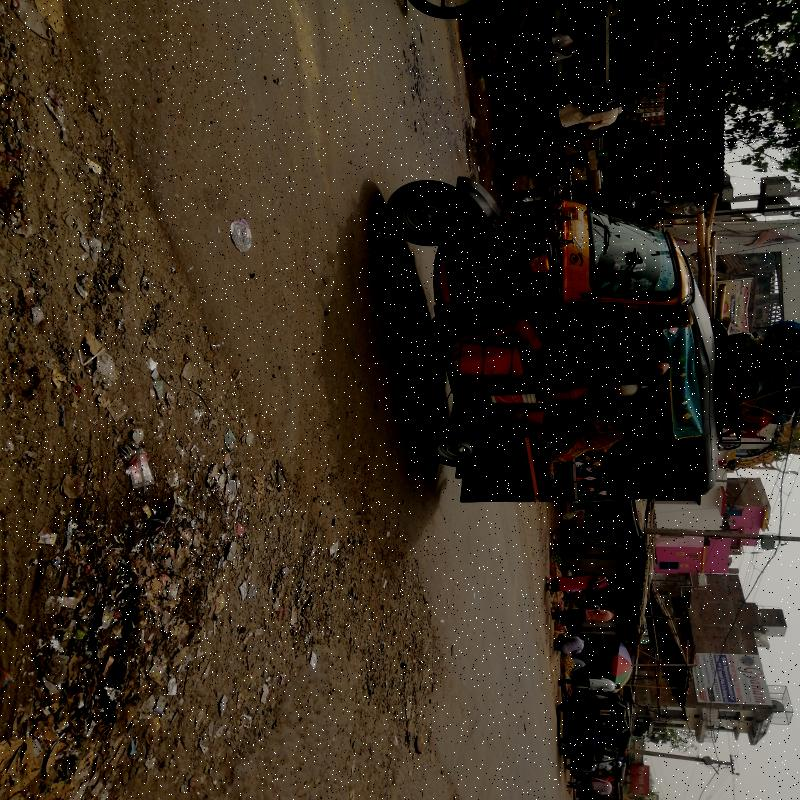auto: (396, 172, 694, 511)
